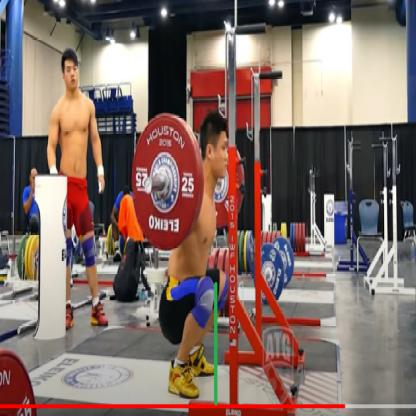Barbell: (129, 107, 206, 253)
